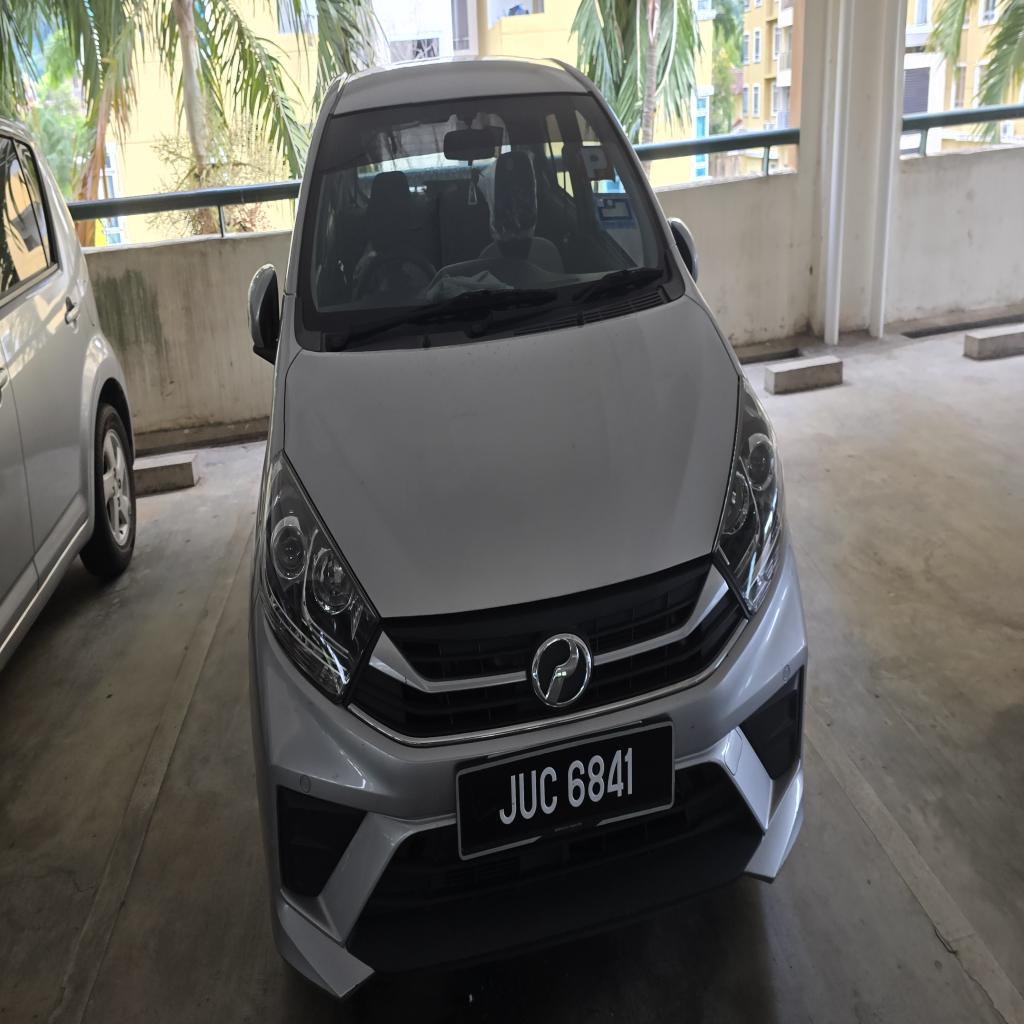car: (250, 60, 806, 996)
car plate: (456, 721, 674, 859)
